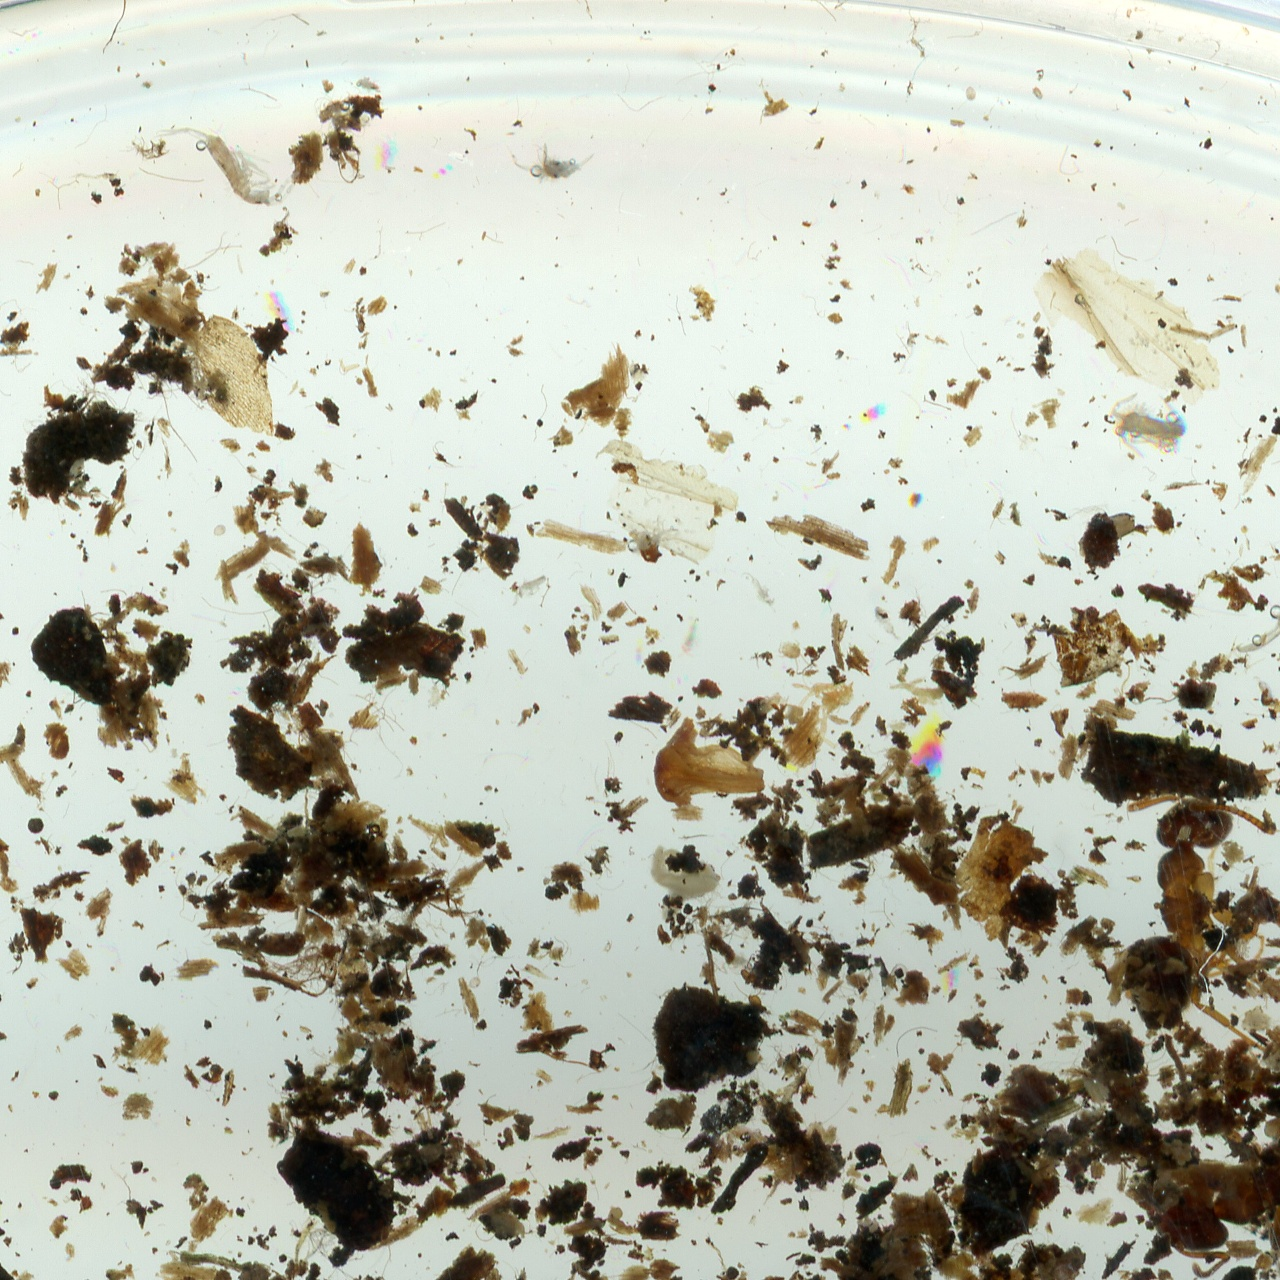arthropod: (1095, 787, 1280, 1056), (1128, 1030, 1280, 1280), (152, 89, 293, 234), (1230, 488, 1280, 699), (1103, 390, 1191, 462), (788, 680, 859, 751), (504, 141, 598, 188), (860, 597, 910, 651), (503, 566, 554, 610), (740, 567, 783, 613), (775, 636, 819, 678), (675, 614, 701, 662), (1248, 673, 1280, 710), (1267, 728, 1280, 758)
